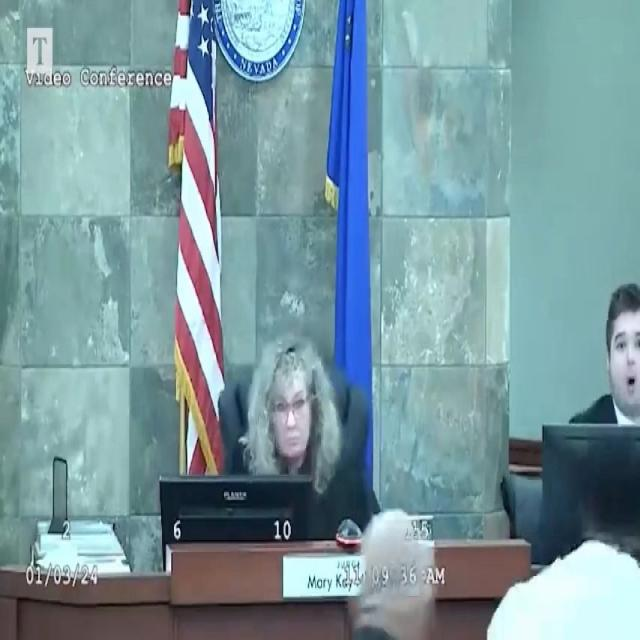non-fight: (228, 326, 366, 544), (565, 271, 640, 423)
